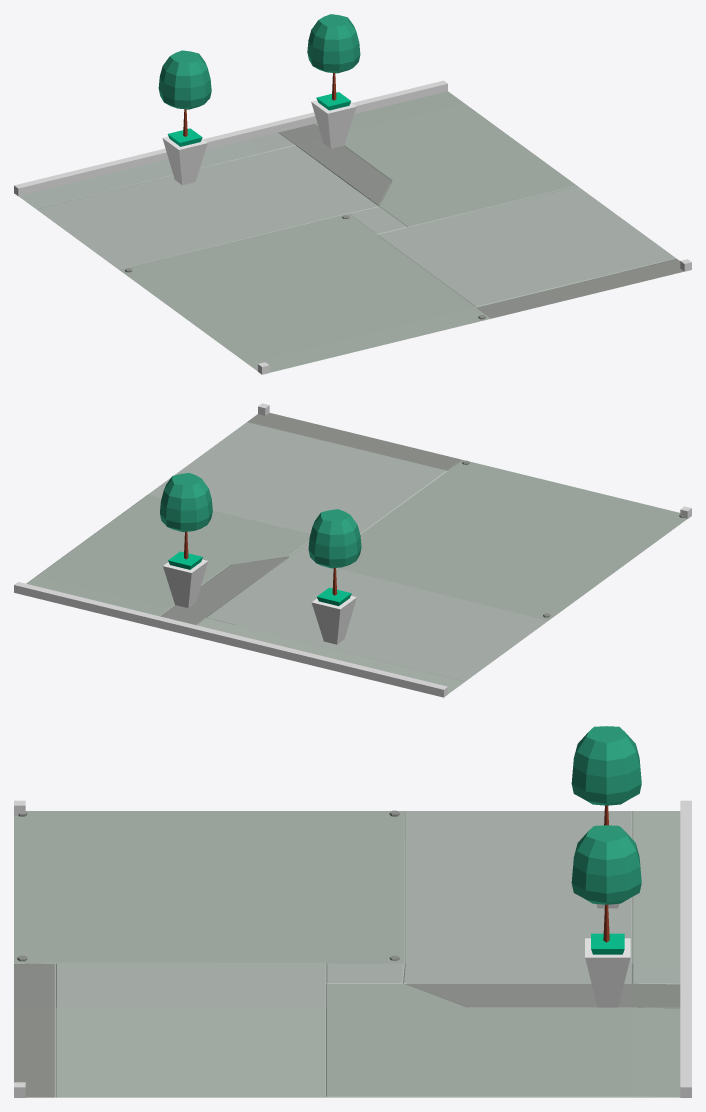
3 views of the same model, one above another, from view 1: azimuth 30°, elevation 25°; view 2: azimuth 150°, elevation 25°; view 3: azimuth 270°, elevation 25° (orthographic). The views are drawn at different scales.
Visible parts, largest first — view 1: Scifi_Panel_04_Plaza014_group4.019_Scifi_Panel_04_Plaza014_g, base_singlePot03.026_base_singlePot03.030, base_singlePot03.027_base_singlePot03.031, Cube.651_Cube.772; view 2: Scifi_Panel_04_Plaza014_group4.019_Scifi_Panel_04_Plaza014_g, Cube.651_Cube.772, base_singlePot03.026_base_singlePot03.030, base_singlePot03.027_base_singlePot03.031; view 3: Scifi_Panel_04_Plaza014_group4.019_Scifi_Panel_04_Plaza014_g, base_singlePot03.027_base_singlePot03.031, base_singlePot03.026_base_singlePot03.030, Cube.651_Cube.772.
Boxes of the visible parts, x1,y1,x2,y2 form: Scifi_Panel_04_Plaza014_group4.019_Scifi_Panel_04_Plaza014_g: (18,91,683,372); base_singlePot03.026_base_singlePot03.030: (158,50,211,185); base_singlePot03.027_base_singlePot03.031: (307,14,360,148); Cube.651_Cube.772: (14,80,447,195); Scifi_Panel_04_Plaza014_group4.019_Scifi_Panel_04_Plaza014_g: (26,412,686,693); Cube.651_Cube.772: (14,582,447,697); base_singlePot03.026_base_singlePot03.030: (308,509,361,644); base_singlePot03.027_base_singlePot03.031: (160,473,212,607); Scifi_Panel_04_Plaza014_group4.019_Scifi_Panel_04_Plaza014_g: (14,810,680,1097); base_singlePot03.027_base_singlePot03.031: (571,825,641,1007); base_singlePot03.026_base_singlePot03.030: (571,726,641,908); Cube.651_Cube.772: (680,800,691,1097).
Size of the model in its own units: 10 by 2.78 by 10.
